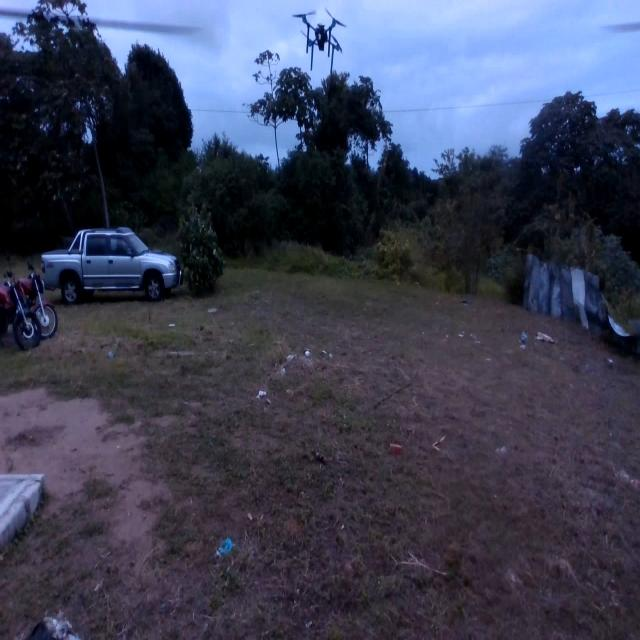-uav-: (291, 6, 357, 81)
